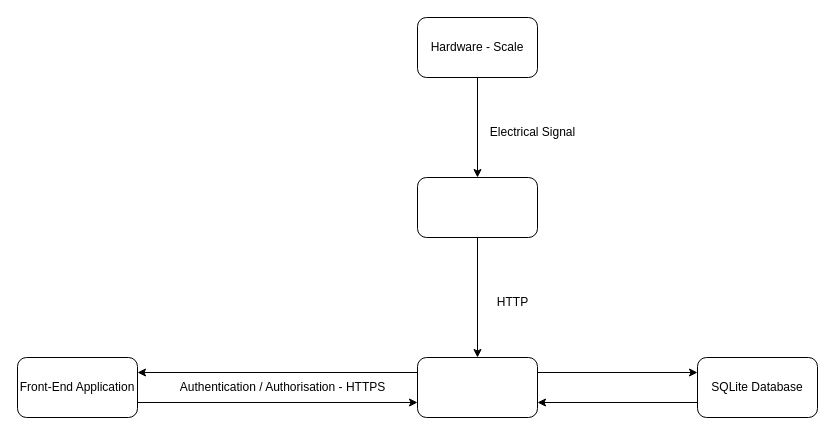
The diagram is 835 pixels wide and 435 high, and some of its shapes have lost their labels. The centre of each missing label's shape, as x and y in pixels:
"Back-End Web API" goes at point 477,387.
"Embedded System" goes at point 477,207.
